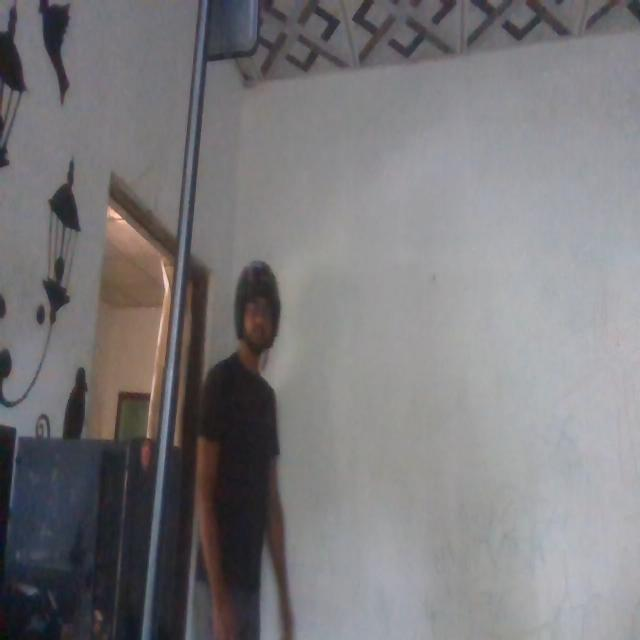Helmet_Wearer: (232, 265, 282, 368)
Person: (195, 250, 308, 640)
